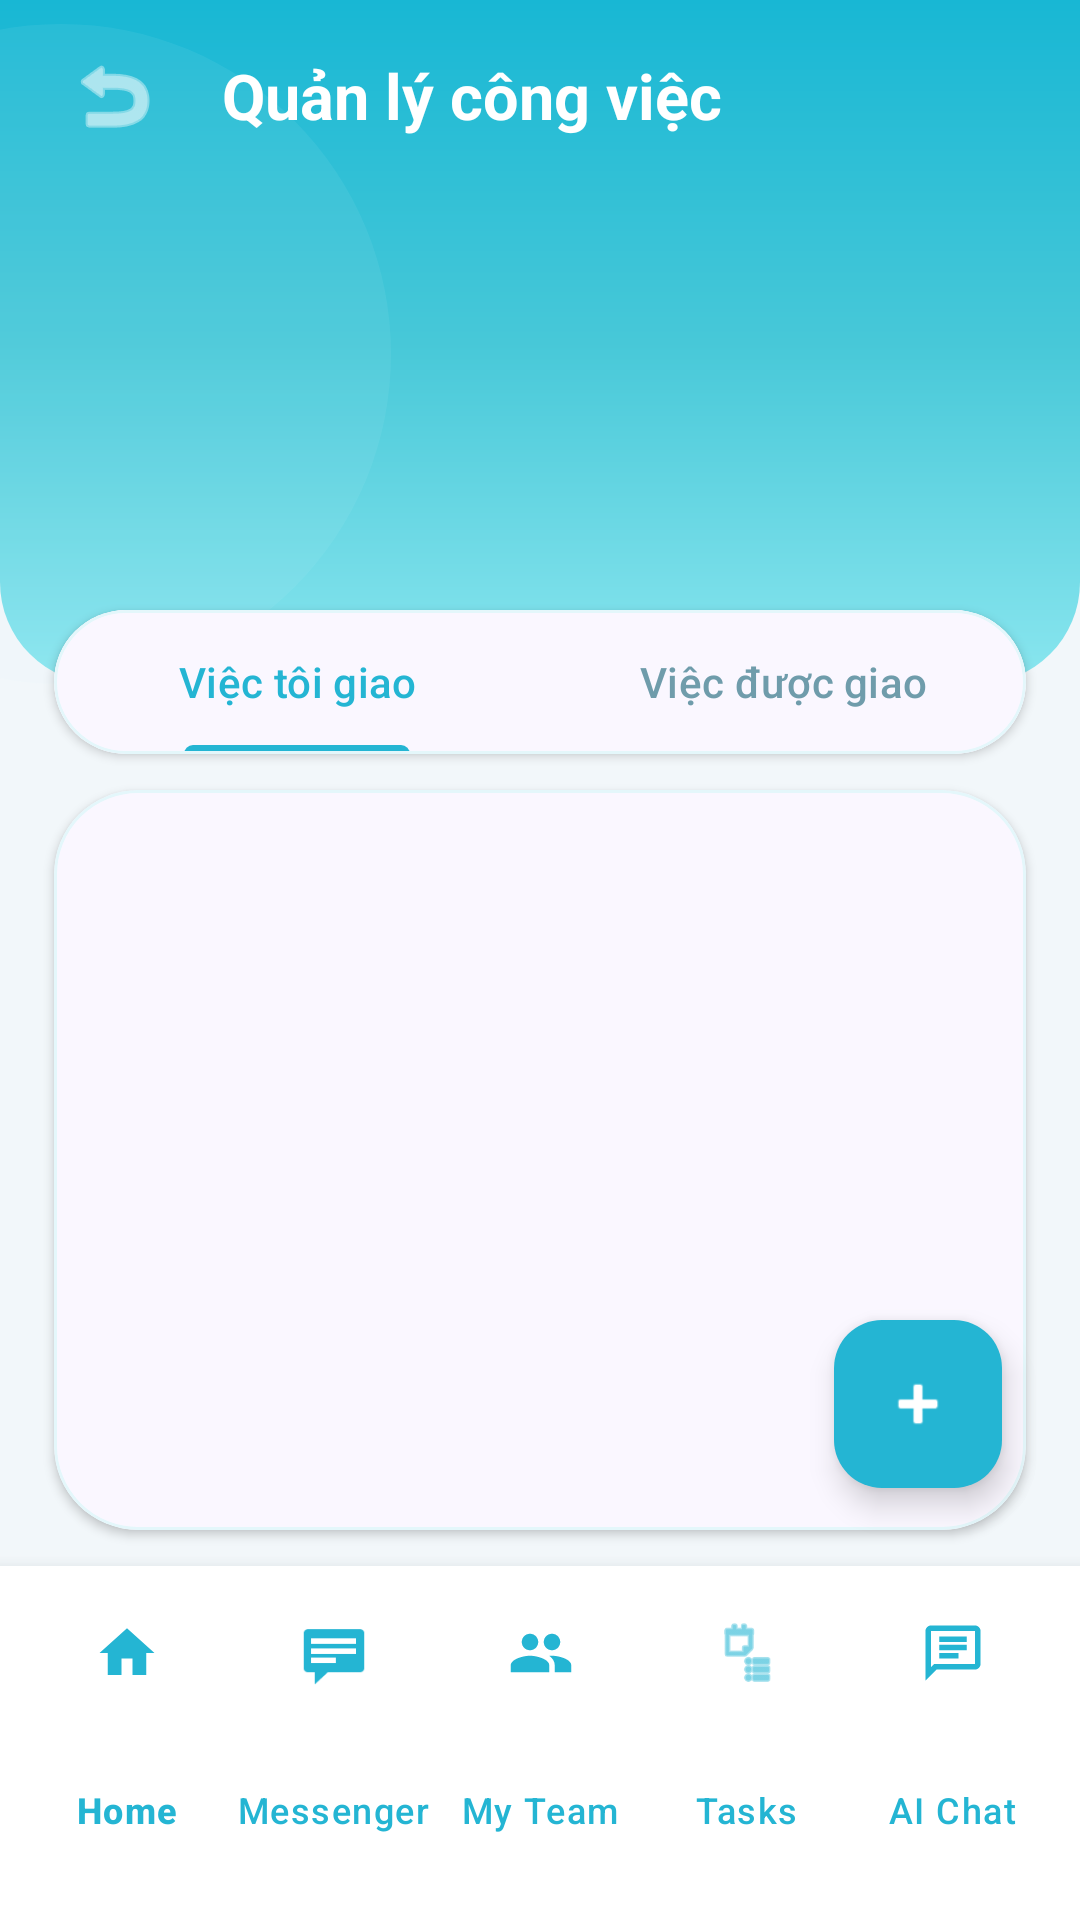

Icons on this 1080*1920 Android screen, each with the point to tap as [x,y]:
add: [918,1404]
revert: [115,97]
